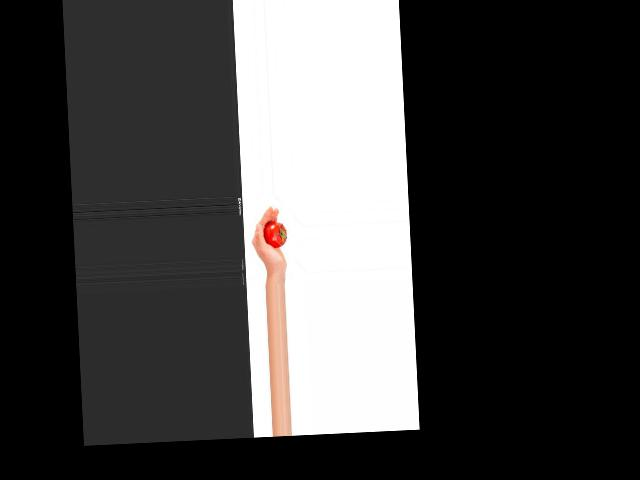tomato: (263, 222, 286, 249)
